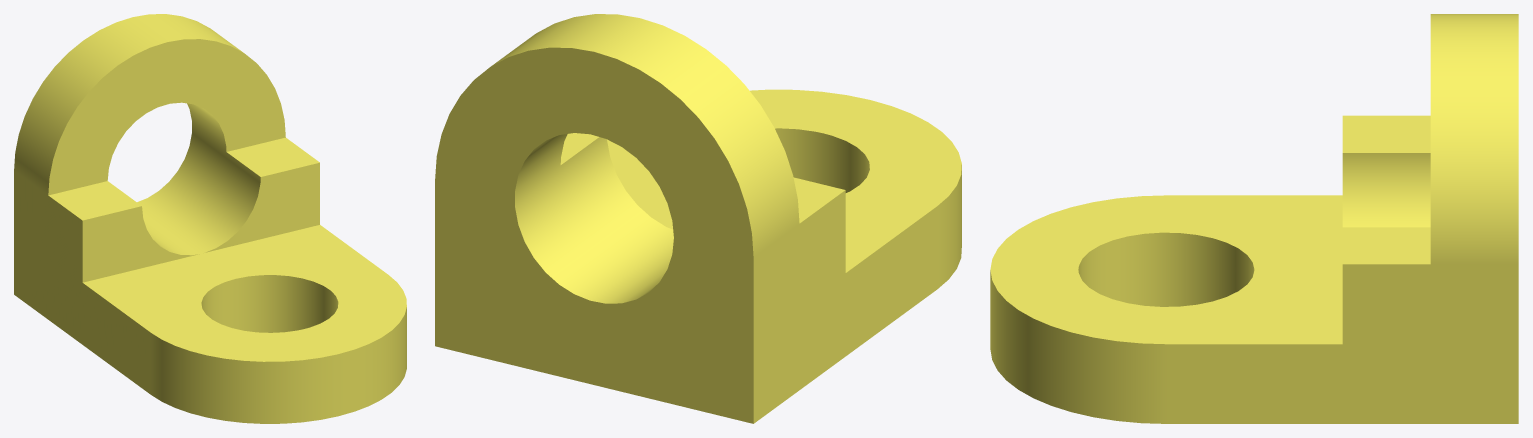
3 views of the same model, side by side, from view 1: azimuth 30°, elevation 25°; view 2: azimuth 150°, elevation 25°; view 3: azimuth 270°, elevation 25° (orthographic). The views are drawn at different scales.
Visible parts, largest first — view 1: 907; view 2: 907; view 3: 907.
Part boxes in pixels (x1,y1,x2,y2): 907: (14, 14, 406, 423); 907: (435, 14, 961, 423); 907: (990, 14, 1518, 423).
Size of the model in its own units: 0.04 by 0.04 by 0.06.
